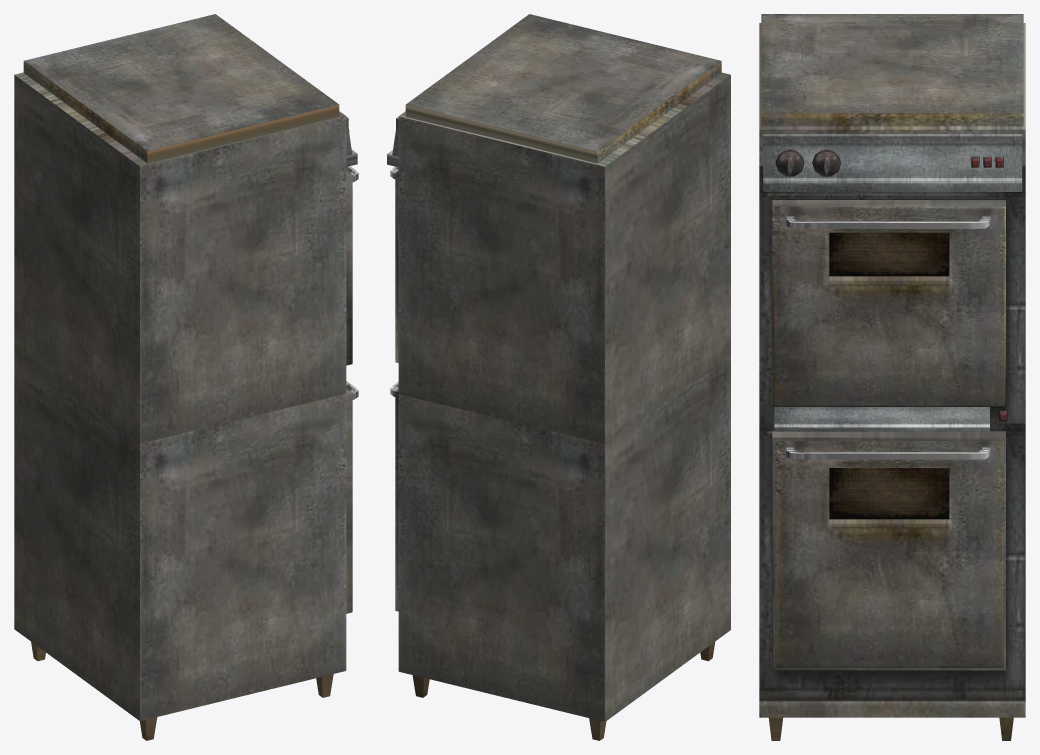
Rendered from kitchen_stove002a.glb.
The picture shows the model from 3 angles, left to right: view 1: azimuth 30°, elevation 25°; view 2: azimuth 150°, elevation 25°; view 3: azimuth 270°, elevation 25°; orthographic projection. The views are drawn at different scales.
Visible parts, largest first — view 1: 0_prisonkitchen02; view 2: 0_prisonkitchen02; view 3: 0_prisonkitchen02.
Part boxes in pixels (box(x1,y1,x2,y2)): 0_prisonkitchen02: box(14, 14, 358, 740); 0_prisonkitchen02: box(387, 14, 730, 740); 0_prisonkitchen02: box(759, 14, 1025, 740).
Bounding box in the file's own units: 0.9227 × 2.24 × 0.857.
1 material, 1 textured.
